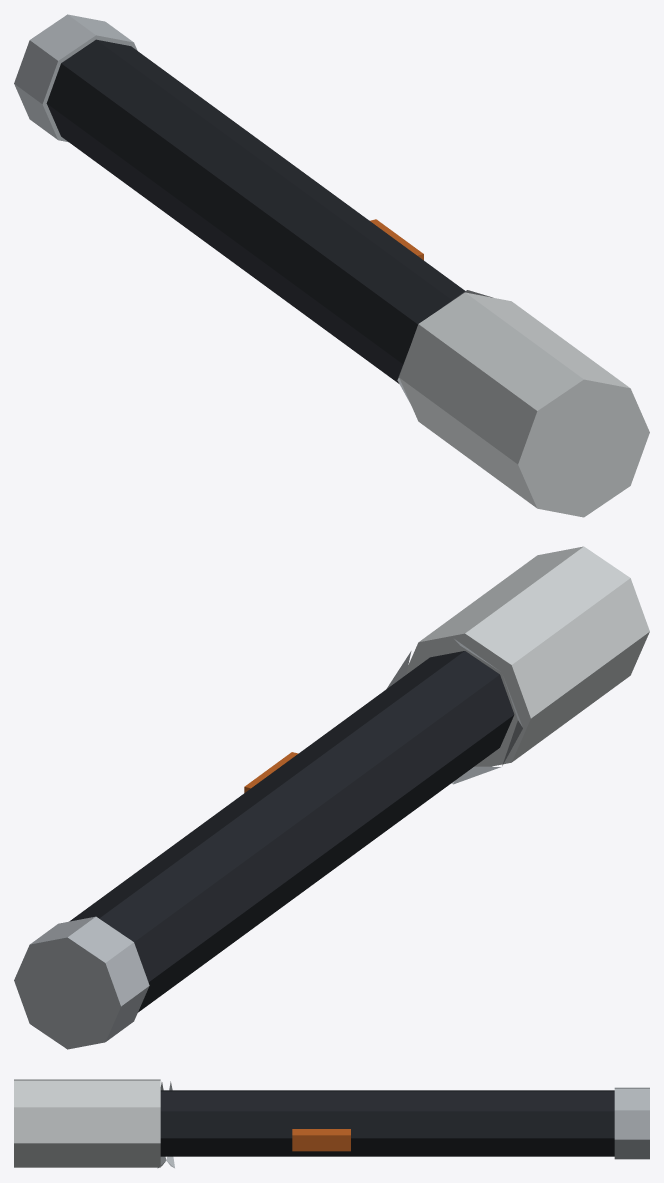
Rendered from glowrod.lod.glb.
The picture shows the model from 3 angles, top to bottom: view 1: azimuth 30°, elevation 25°; view 2: azimuth 150°, elevation 25°; view 3: azimuth 270°, elevation 25°; orthographic projection. The views are drawn at different scales.
Visible parts, largest first — view 1: m; view 2: m; view 3: m.
Part boxes in pixels (bbox=[...]): m: bbox=[14, 14, 649, 517]; m: bbox=[14, 546, 649, 1049]; m: bbox=[14, 1079, 649, 1168].
Bounding box in the file's own units: 0.026 × 0.026 × 0.1662.
